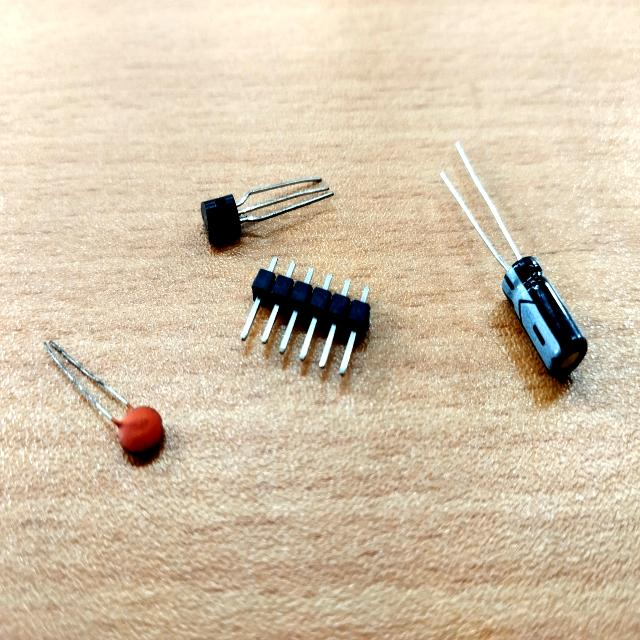capacitor: (502, 259, 587, 380), (118, 406, 166, 467)
